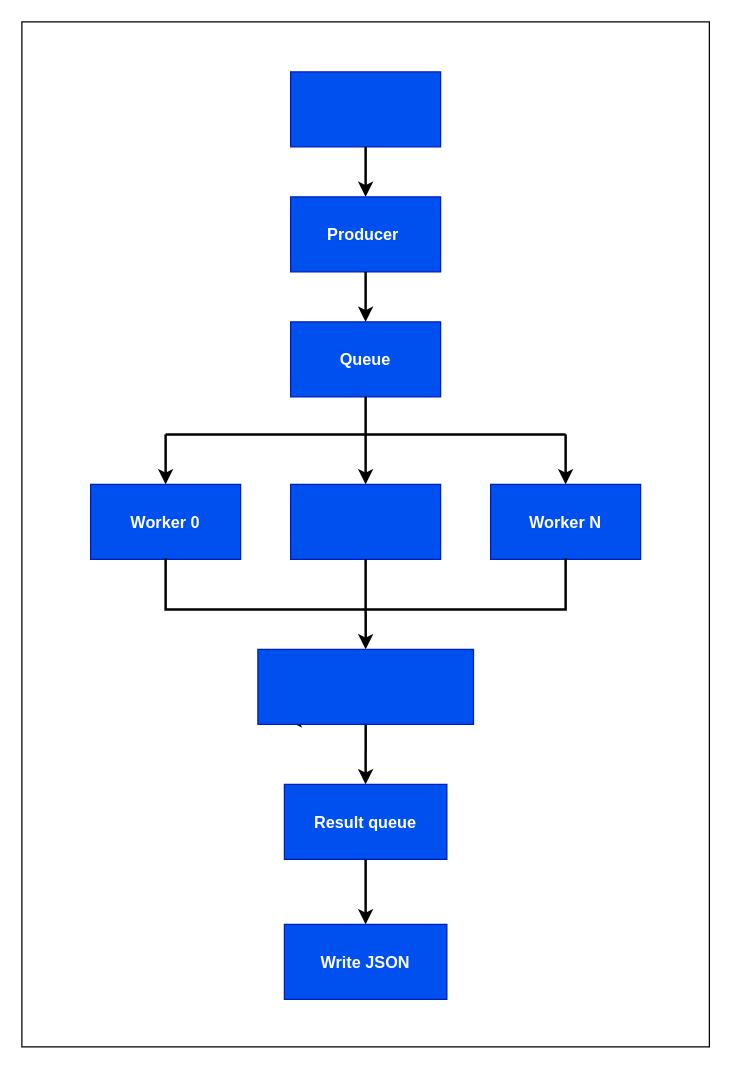
This 731x1069 diagram has some shape labels left out. Each missing label, with the centre of its shape:
asyncio Event Loop: the point at 365,686
List product ID: the point at 365,109
Worker 1: the point at 365,521
